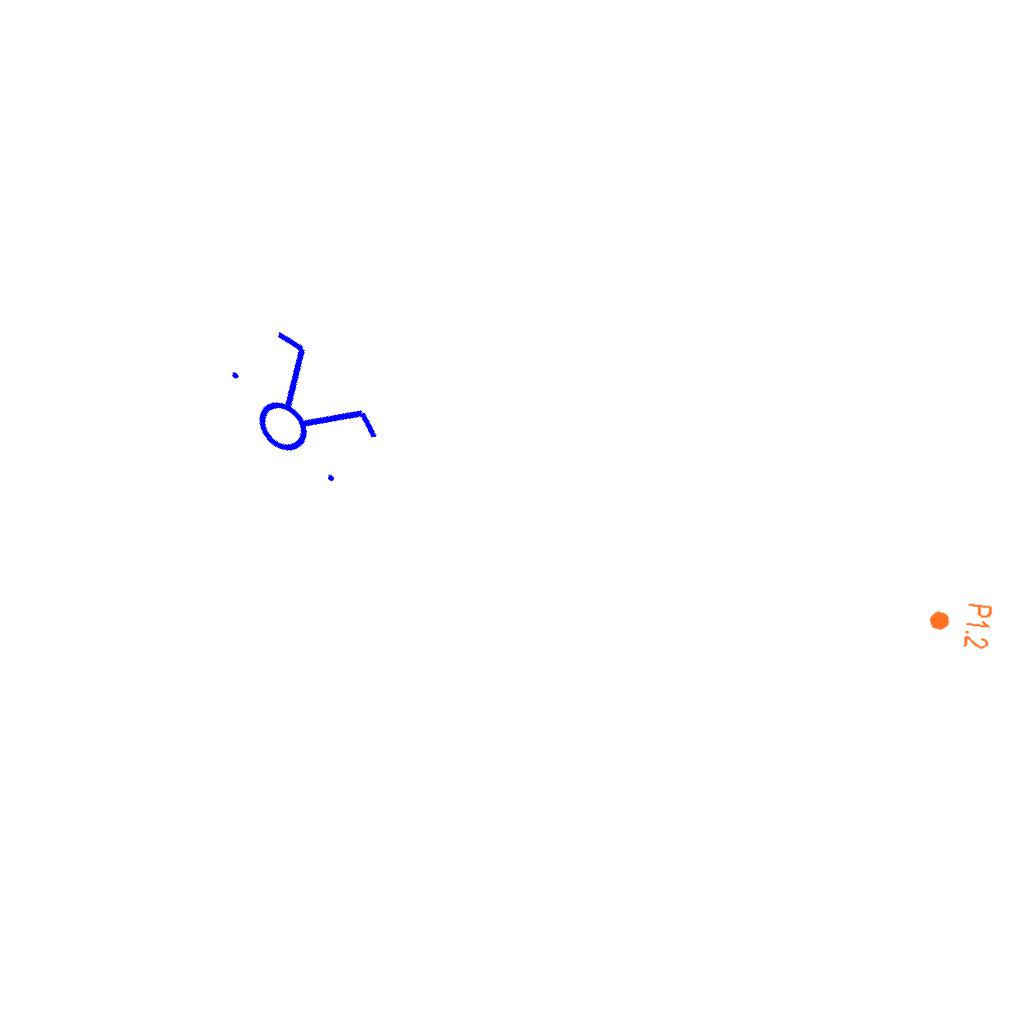Downlight_LED_Einbauleuchten_Flur: (925, 597, 995, 651)
Serienschalter: (208, 313, 394, 503)
